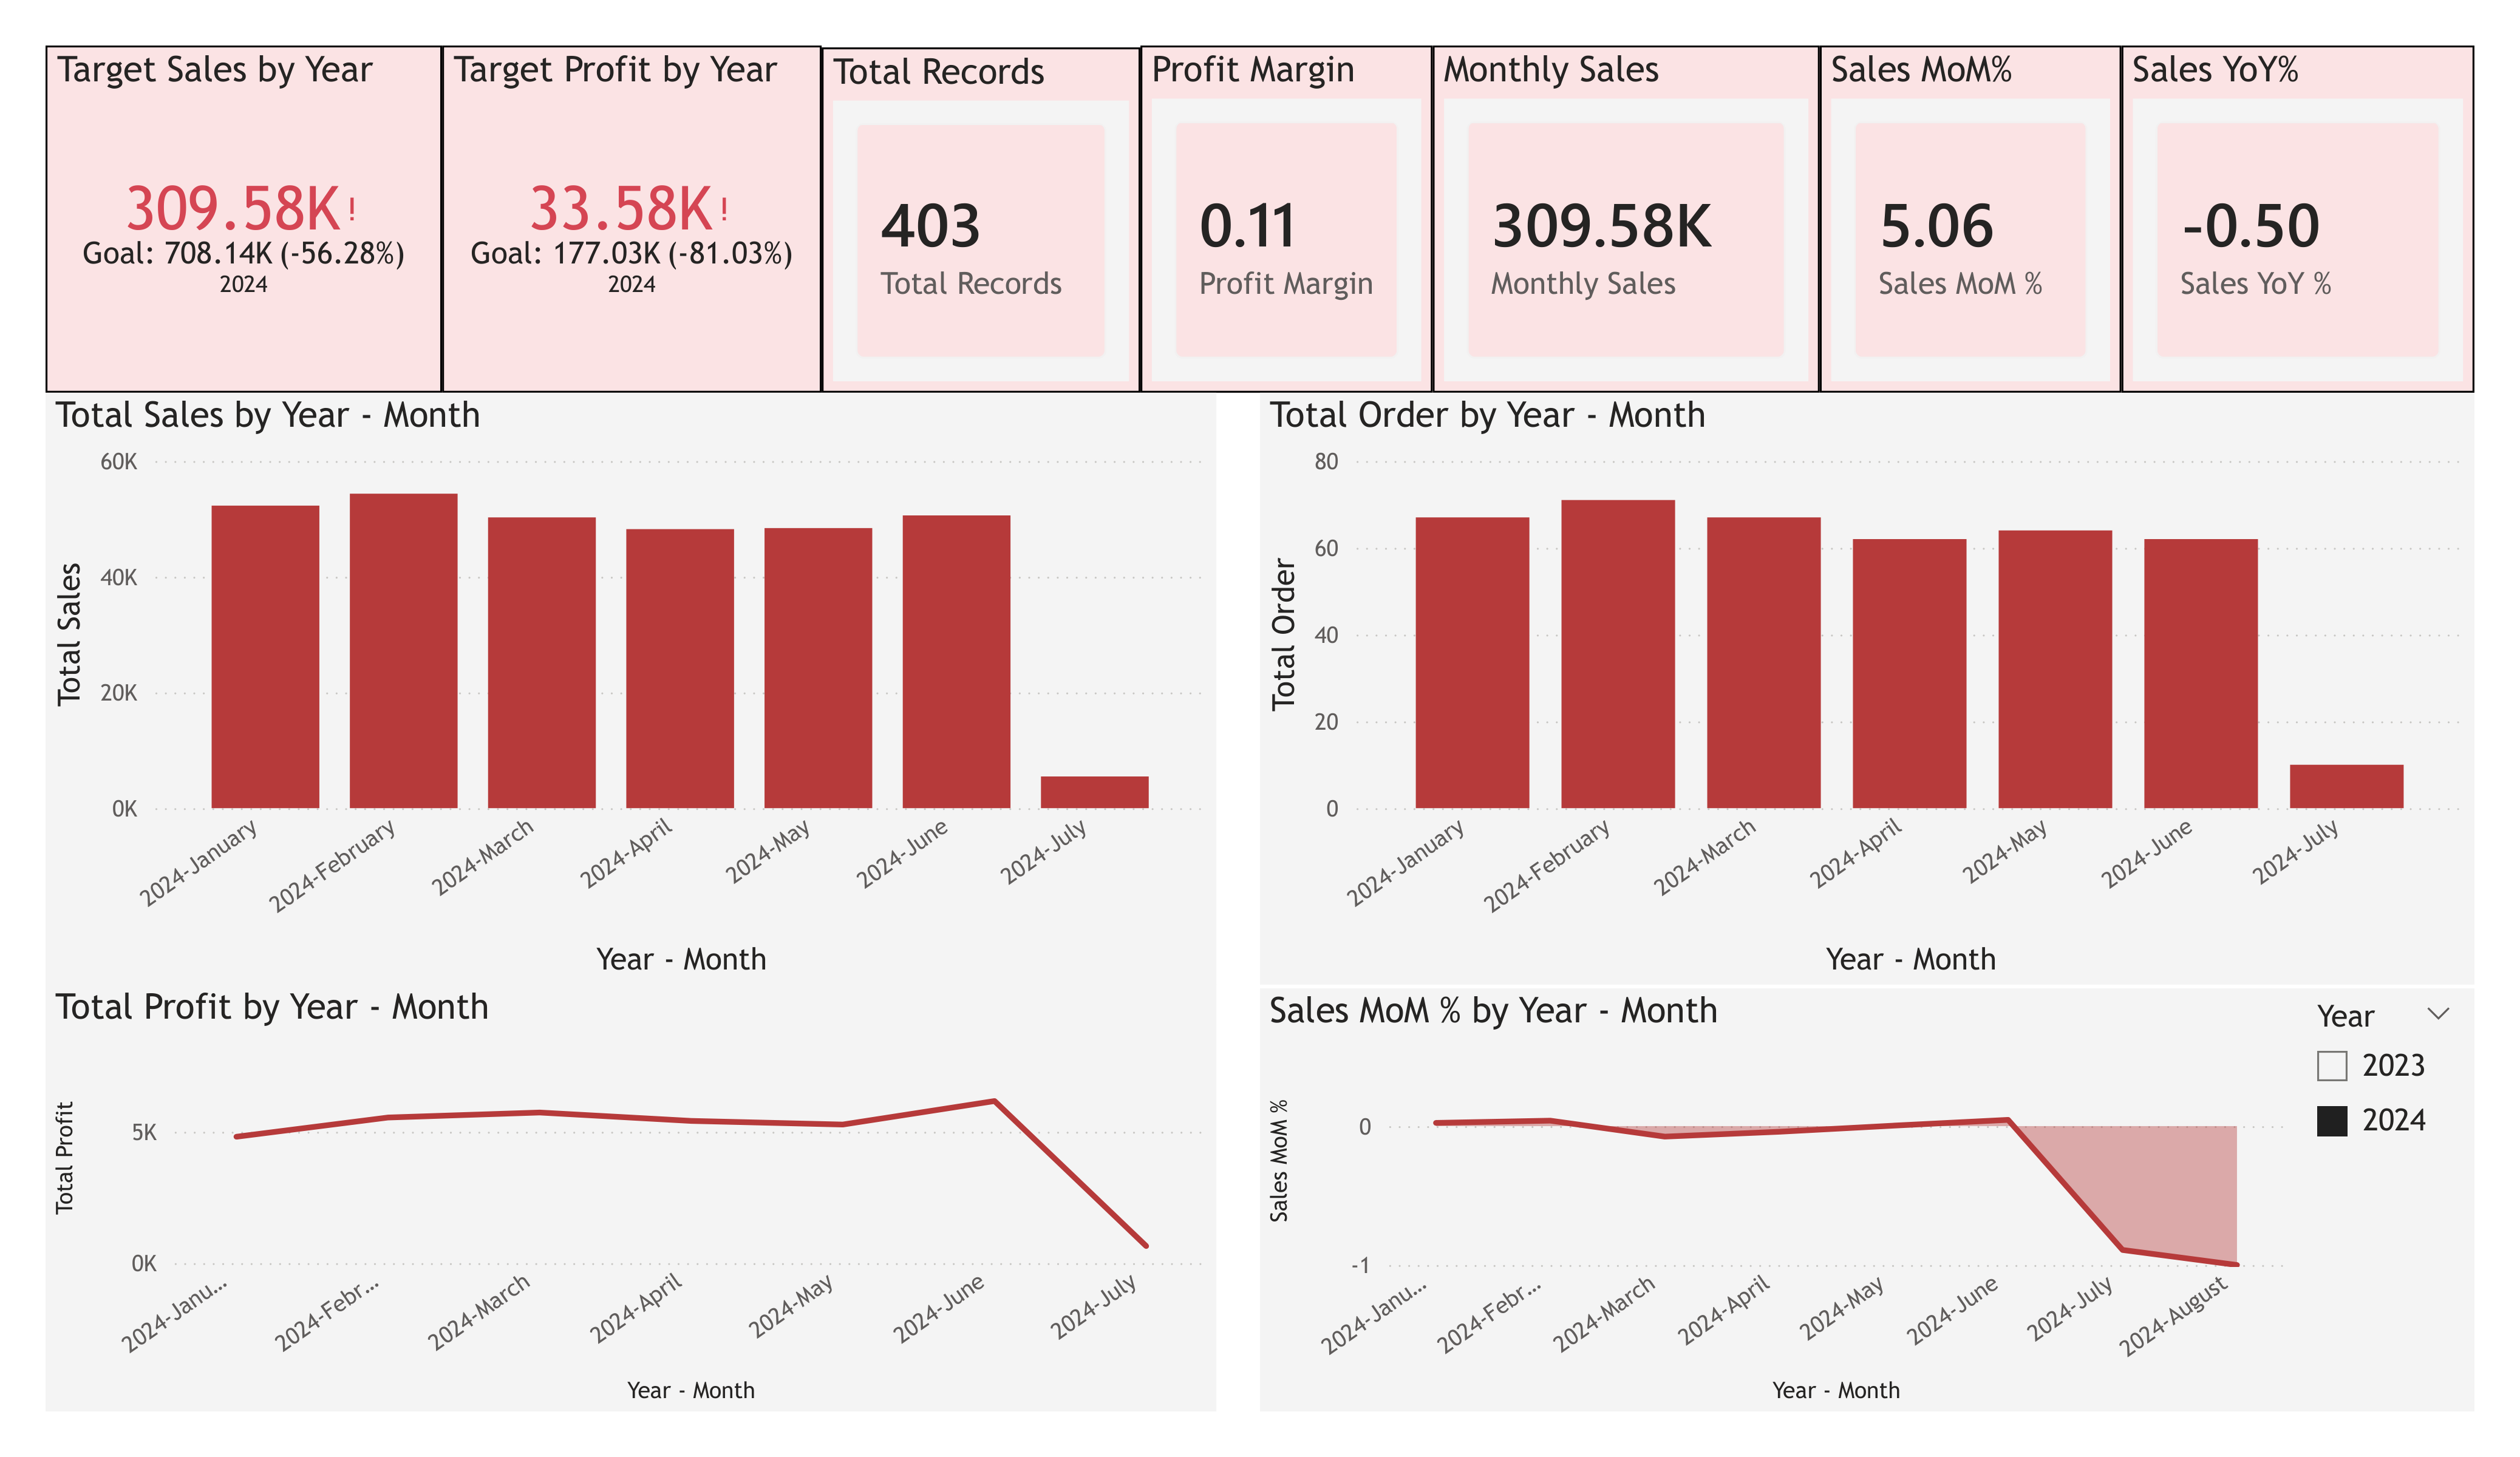

Layout of this report page (visuals, bound fields, positions):
{"tool":"powerbi","page":{"name":"Executive Summary","canvas":[1280,720],"ordinal":0},"visuals":[{"type":"kpi","title":"Target Profit by Year","fields":{"Indicator":["Measures (2).Total Profit"],"TrendLine":["Date Table.Year"],"Goal":["Measures (2).Target Profit"]},"box":[209.3,0,200,182.6],"z":0},{"type":"kpi","title":" Target Sales by Year","fields":{"Indicator":["Measures (2).Total Sales"],"TrendLine":["Date Table.Year"],"Goal":["Measures (2).Target Sales"]},"box":[0,0,209.3,182.6],"z":1000},{"type":"slicer","fields":{"Values":["Date Table.Year"]},"box":[1183.7,496.5,96.5,223.3],"z":2000},{"type":"cardVisual","title":"Total Records","fields":{"Data":["Measures (2).Total Records"]},"box":[409.3,1.2,167.4,181.4],"z":3000},{"type":"cardVisual","title":"Monthly Sales","fields":{"Data":["Measures (2).Monthly Sales"]},"box":[731.4,0,203.5,182.6],"z":4000},{"type":"cardVisual","title":"Sales MoM%","fields":{"Data":["Measures (2).Sales MoM %"]},"box":[934.9,0,159.3,182.6],"z":5000},{"type":"cardVisual","title":"Profit Margin","fields":{"Data":["Measures (2).Profit Margin"]},"box":[576.7,0,154.7,182.6],"z":6000},{"type":"clusteredColumnChart","fields":{"Y":["Measures (2).Total Sales"],"Category":["Date Table.Year - Month"]},"box":[0,182.6,617.4,312.8],"z":7000},{"type":"clusteredColumnChart","fields":{"Y":["Measures (2).Total Order"],"Category":["Date Table.Year - Month"]},"box":[639.5,182.6,640.7,312.8],"z":8000},{"type":"lineChart","fields":{"Y":["Measures (2).Total Profit"],"Category":["Date Table.Year - Month"]},"box":[0,495.4,617.4,224.4],"z":9000},{"type":"stackedAreaChart","fields":{"Category":["Date Table.Year - Month"],"Y":["Measures (2).Sales MoM %"]},"box":[639.5,496.5,544.2,223.3],"z":10000},{"type":"cardVisual","title":"Sales YoY%","fields":{"Data":["Measures (2).Sales YoY %"]},"box":[1094.2,0,186,182.6],"z":11000}]}

Visuals, with their boxes on the page's 1280x720 design canvas (x1, y1, x2, y2). These are canvas units, not pixel positions in the 2520x1457 screenshot, which may show the page scaled, cropped or inside an application window:
"Target Profit by Year" kpi: bbox(209, 0, 409, 183)
" Target Sales by Year" kpi: bbox(0, 0, 209, 183)
slicer - Date Table.Year: bbox(1184, 496, 1280, 720)
"Total Records" cardVisual: bbox(409, 1, 577, 183)
"Monthly Sales" cardVisual: bbox(731, 0, 935, 183)
"Sales MoM%" cardVisual: bbox(935, 0, 1094, 183)
"Profit Margin" cardVisual: bbox(577, 0, 731, 183)
clusteredColumnChart - Measures (2).Total Sales x Date Table.Year - Month: bbox(0, 183, 617, 495)
clusteredColumnChart - Measures (2).Total Order x Date Table.Year - Month: bbox(640, 183, 1280, 495)
lineChart - Measures (2).Total Profit x Date Table.Year - Month: bbox(0, 495, 617, 720)
stackedAreaChart - Date Table.Year - Month x Measures (2).Sales MoM %: bbox(640, 496, 1184, 720)
"Sales YoY%" cardVisual: bbox(1094, 0, 1280, 183)
